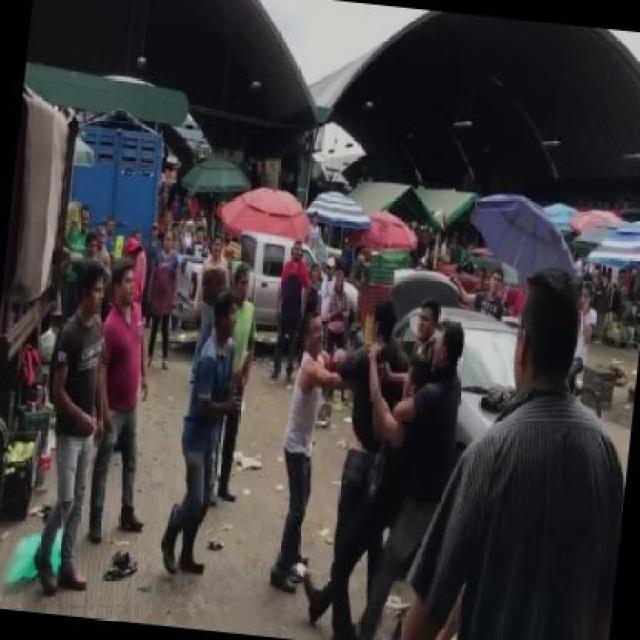fight: (274, 300, 416, 632)
non-fight: (370, 256, 638, 638), (18, 249, 131, 603), (148, 255, 268, 583), (308, 260, 363, 428)
